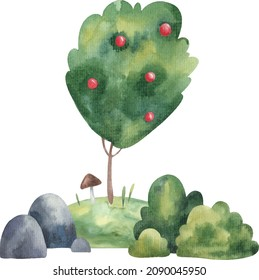tree: (64, 1, 201, 206)
